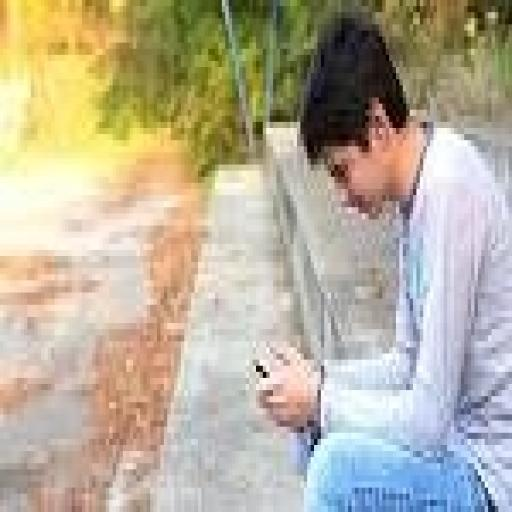texting: (252, 6, 508, 506)
